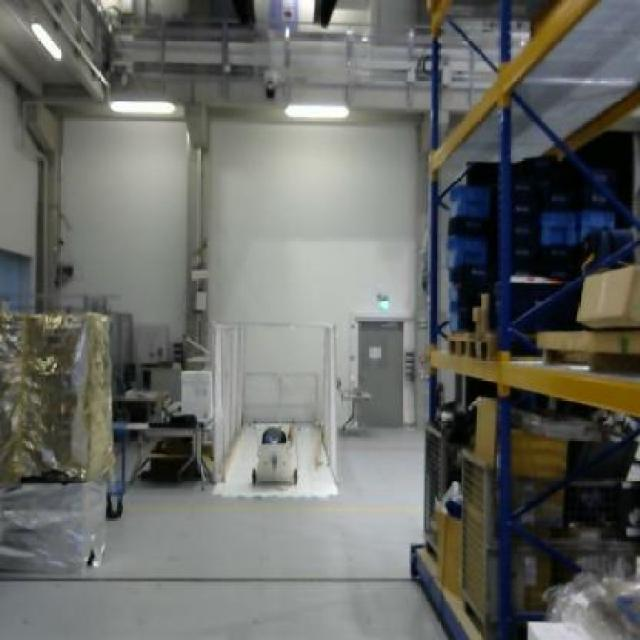box: (576, 262, 639, 328)
